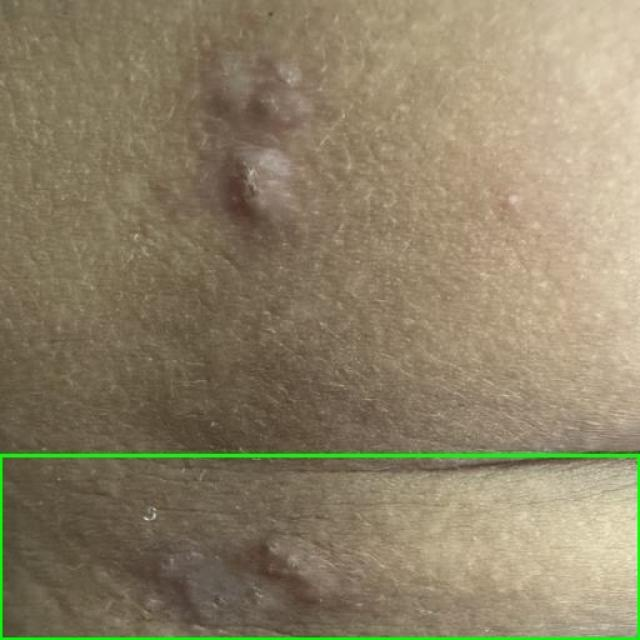Scabies: (0, 455, 639, 639)
